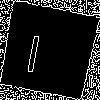I: (23, 25, 45, 74)
